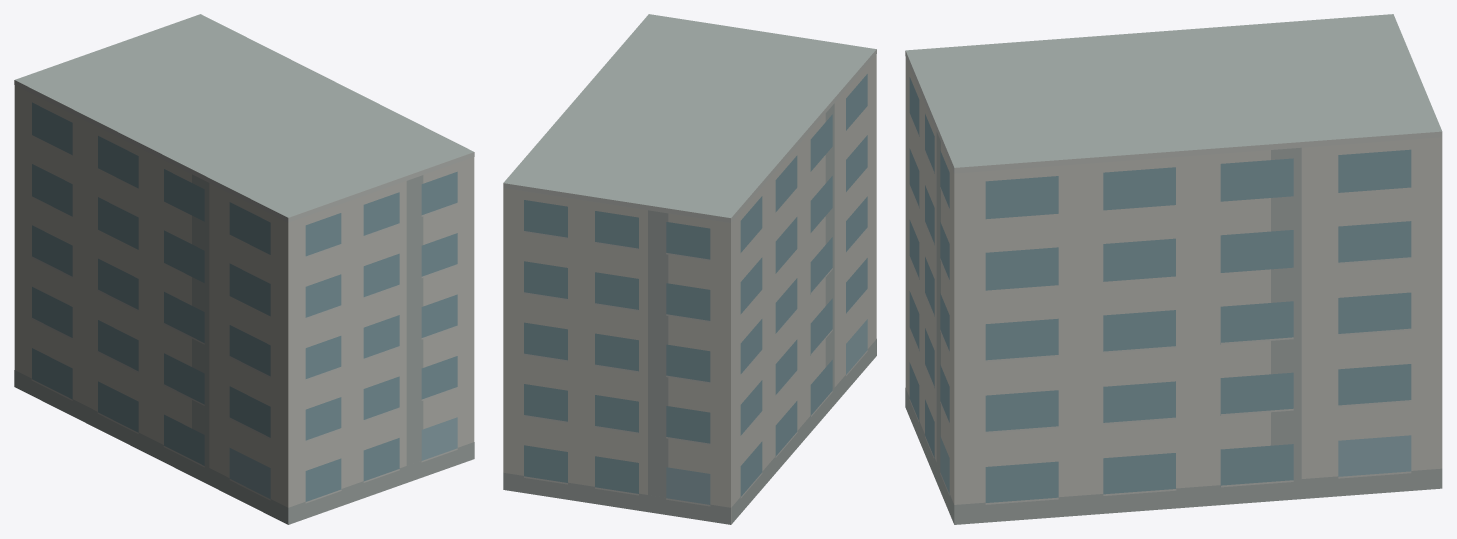
File: residential-9156c7dd-4c24-49b8-b5ea-3564e28880b2.glb
3 views of the same model, side by side, from view 1: azimuth 30°, elevation 25°; view 2: azimuth 150°, elevation 25°; view 3: azimuth 270°, elevation 25° (orthographic). The views are drawn at different scales.
Visible parts, largest first — view 1: residential-9156c7dd-4c24-49b8-b5ea-3564e28880b2.tmp; view 2: residential-9156c7dd-4c24-49b8-b5ea-3564e28880b2.tmp; view 3: residential-9156c7dd-4c24-49b8-b5ea-3564e28880b2.tmp.
Part boxes in pixels (x1,y1,x2,y2): residential-9156c7dd-4c24-49b8-b5ea-3564e28880b2.tmp: [14, 14, 474, 524]; residential-9156c7dd-4c24-49b8-b5ea-3564e28880b2.tmp: [503, 14, 876, 524]; residential-9156c7dd-4c24-49b8-b5ea-3564e28880b2.tmp: [905, 14, 1442, 524].
Size of the model in its own units: 14.11 by 15.25 by 20.8.
